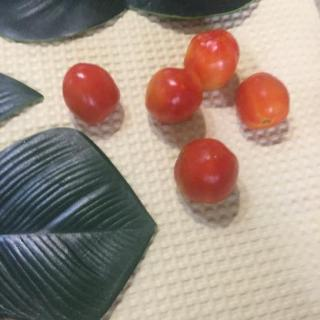Tomat: (169, 136, 245, 207), (180, 25, 243, 100), (59, 62, 128, 123), (143, 64, 205, 128), (227, 69, 291, 131)
